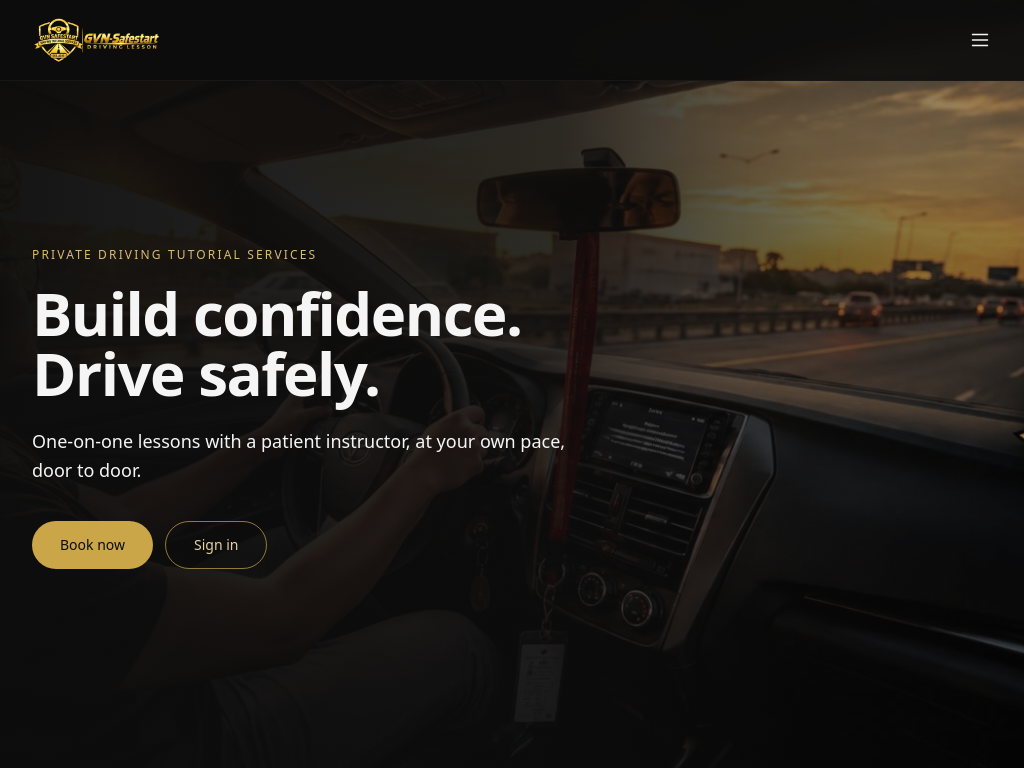
Test: mobile menu › opens and closes on the toggle
The width and height of the screenshot is (1024, 768).
Click the button named "Open menu": (980, 40) [960,20,1000,60]
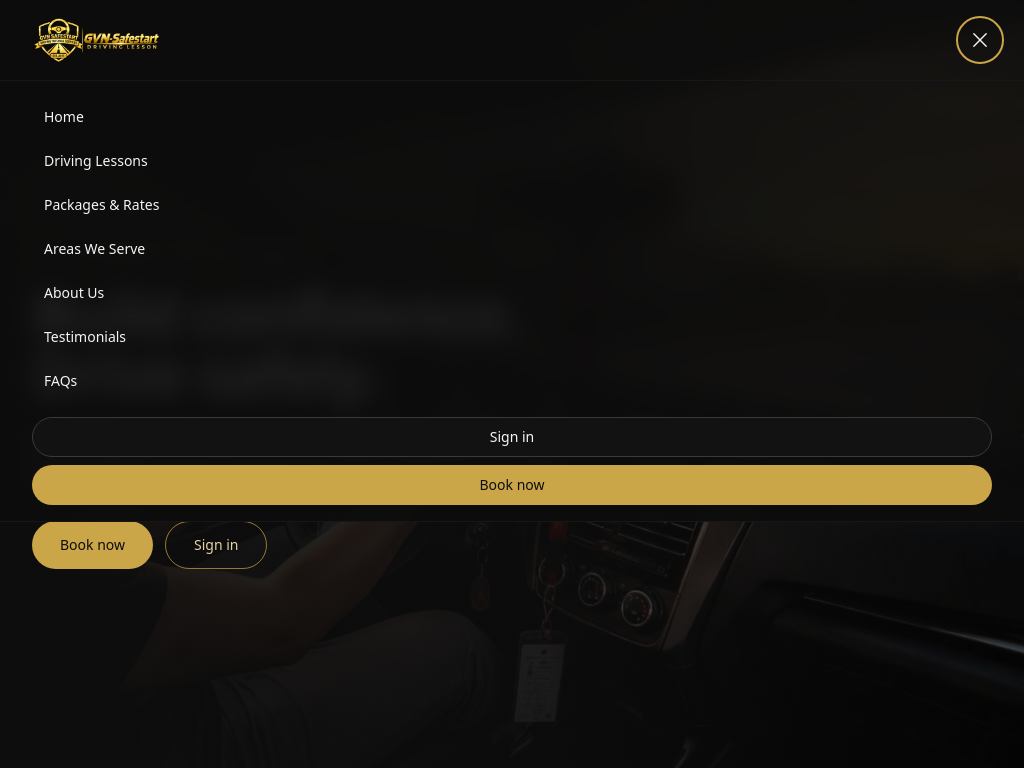
Result: the button named "Close menu" is expanded
Click the button named "Close menu": (980, 40) [960,20,1000,60]
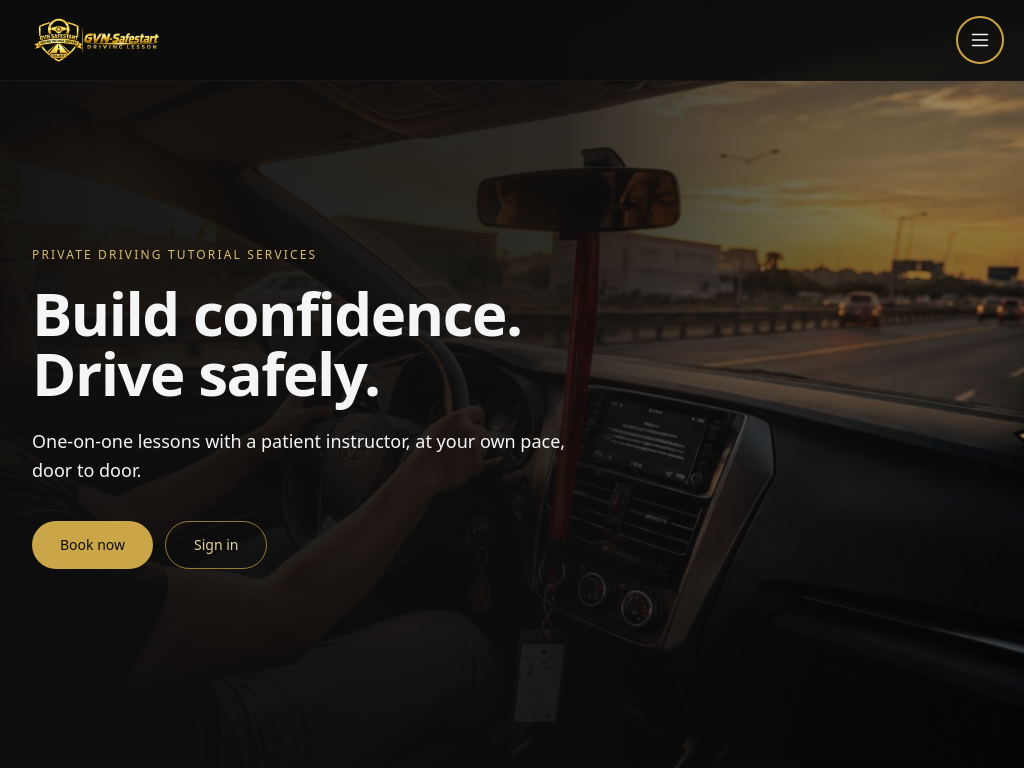
Result: the button named "Open menu" is collapsed at [960,20,1000,60]
